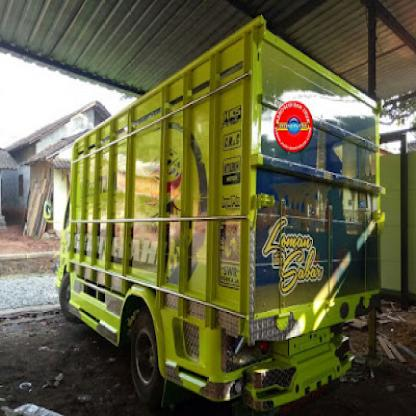truck: (43, 14, 385, 408)
